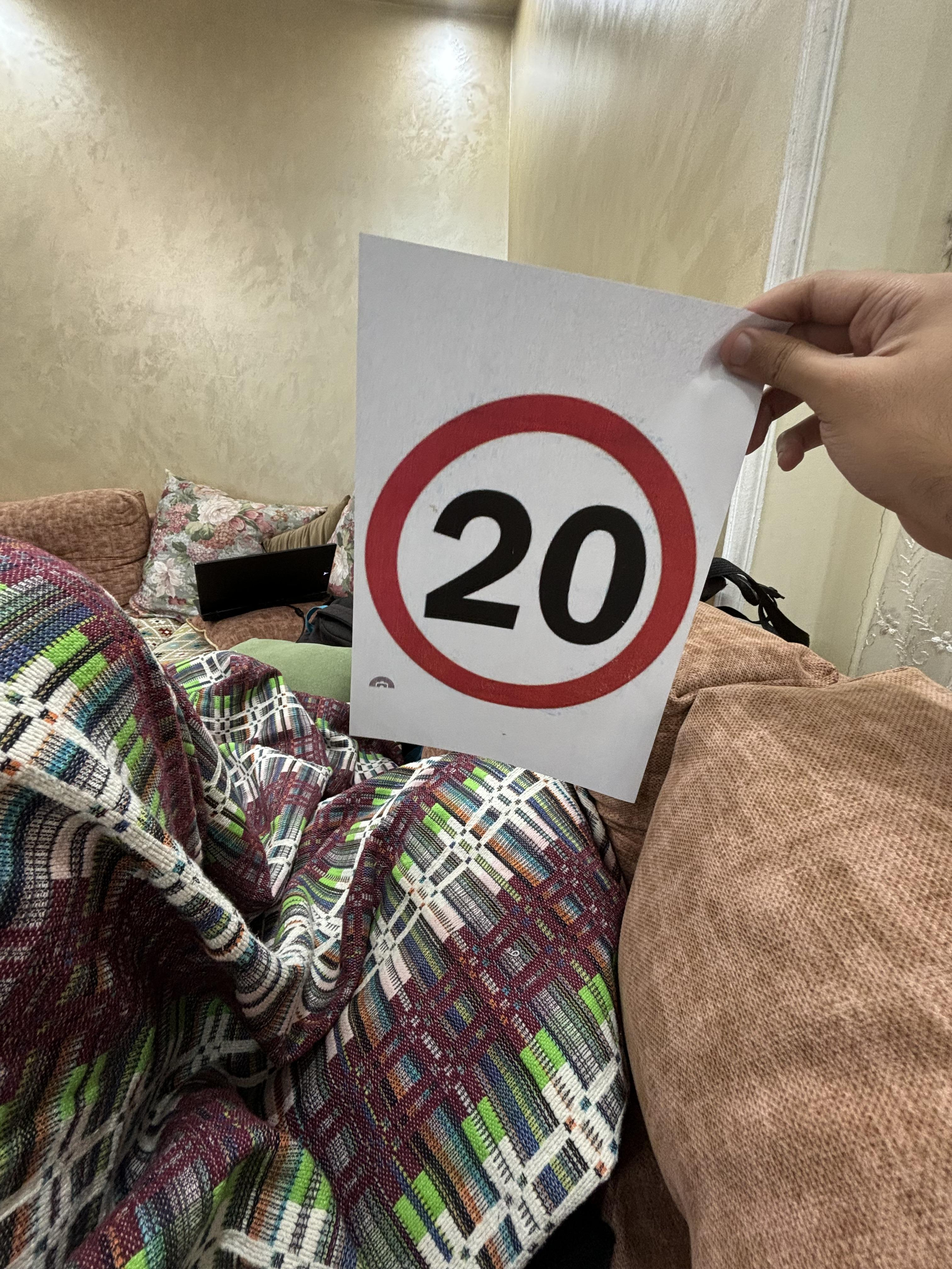20-Speed: (375, 394, 699, 707)
